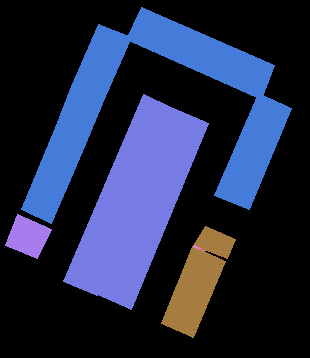parkingspot: (95, 108, 208, 309), (63, 94, 175, 295), (21, 24, 131, 223), (126, 7, 274, 99), (214, 93, 291, 209), (161, 246, 225, 337), (5, 214, 51, 258), (193, 226, 235, 258)
